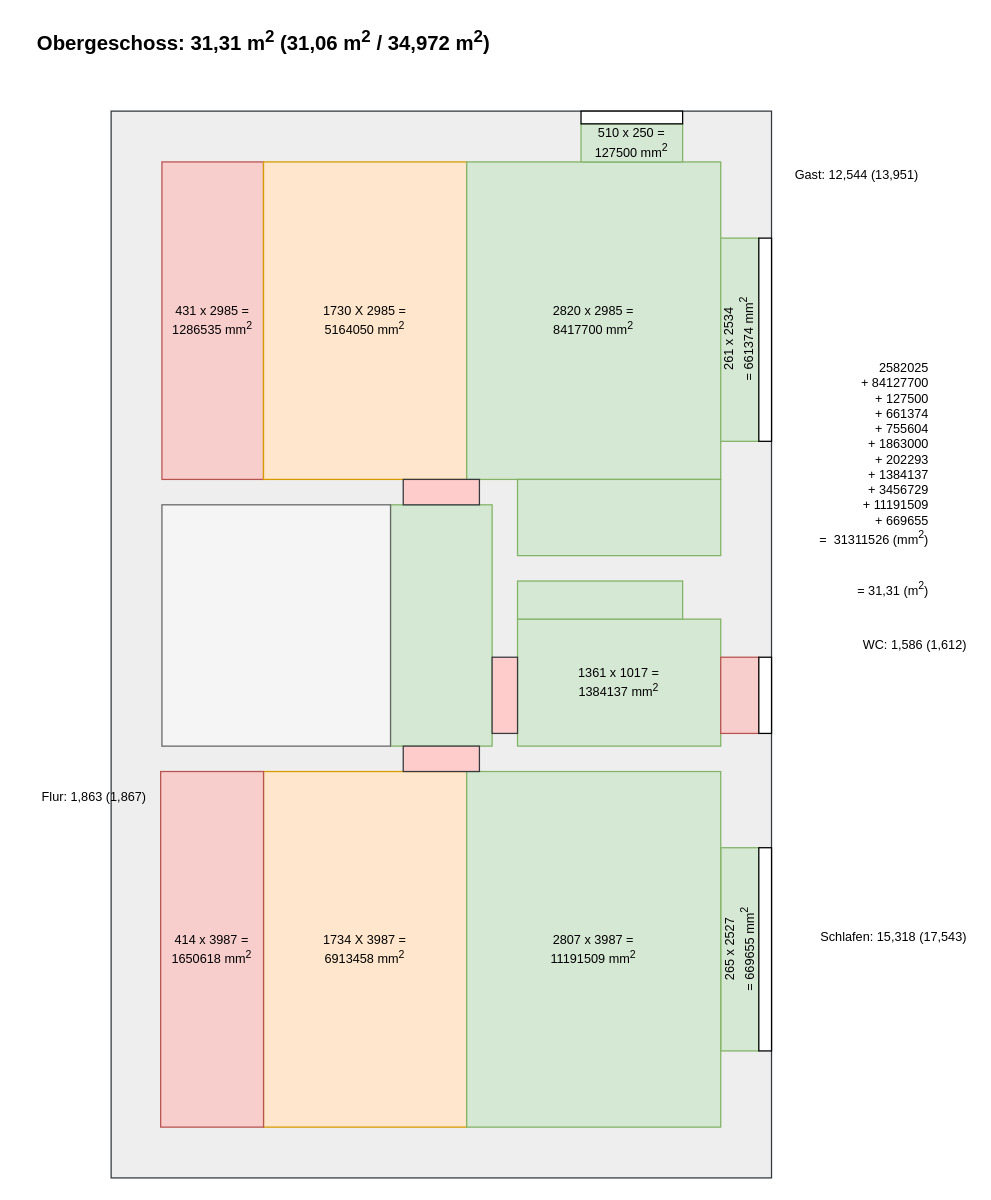
Some shapes in this 991 by 1200 pixel diagram are drawn without their labels. Here are the shapes that lost their labels. From the top down, the centre of each, then its label:
[618,517]: 1359 x 556 = 755604 mm 2
[599,599]: 1183 x 171 = 202293 mm 2
[276,625]: 2360 x 1716 = 4049760 mm 2
[440,625]: 1080 x 1725 = 1863000 (mm 2 )
[739,694]: 265 x 760
